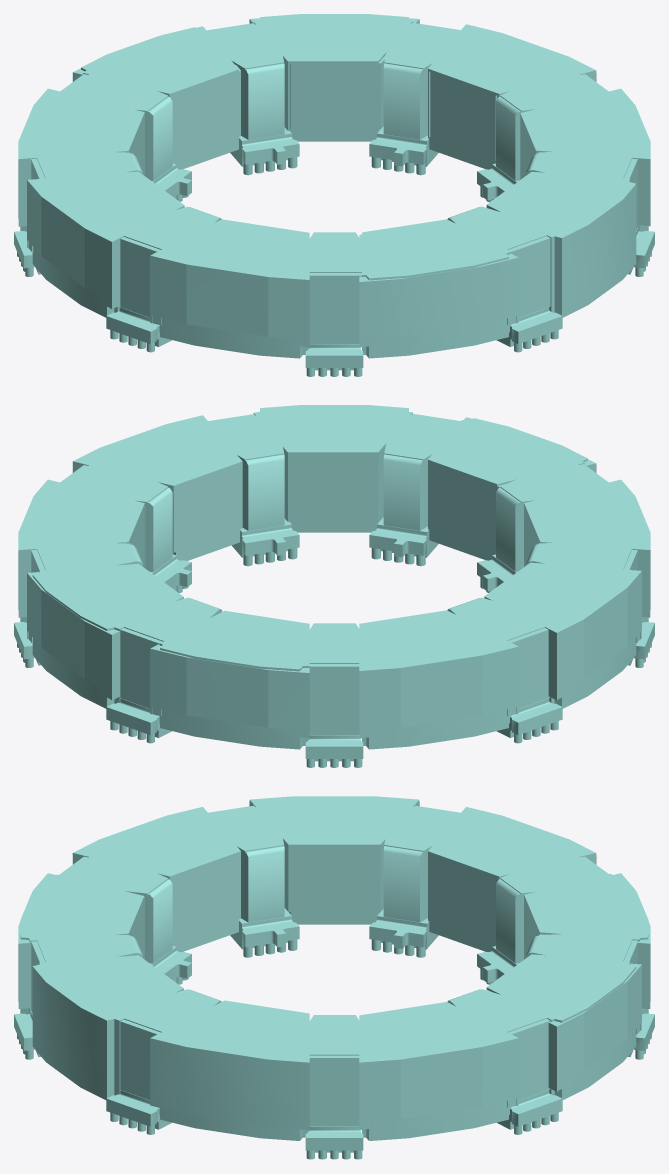
3 renders of one model, top to bottom at view 1: azimuth 30°, elevation 25°; view 2: azimuth 150°, elevation 25°; view 3: azimuth 270°, elevation 25°, orthographic.
Parts seen in each view (by area): view 1: ITER_MESH__pf6; view 2: ITER_MESH__pf6; view 3: ITER_MESH__pf6.
Boxes of the visible parts, <box> form: ITER_MESH__pf6: <box>14,14,654,376</box>; ITER_MESH__pf6: <box>14,405,654,767</box>; ITER_MESH__pf6: <box>14,796,654,1159</box>.
Size of the model in its own units: 10.96 by 1.87 by 11.08.
